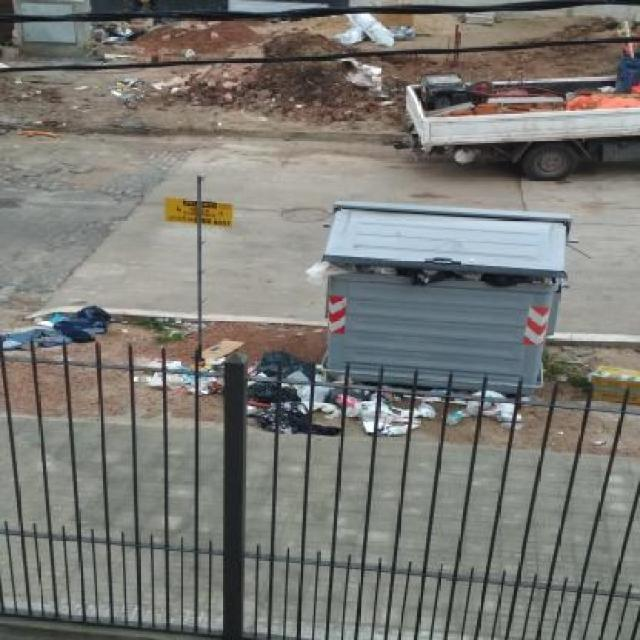garbage: (383, 368, 528, 450), (299, 254, 566, 298), (252, 357, 373, 436), (128, 351, 238, 401), (2, 313, 120, 359), (342, 10, 419, 49), (335, 60, 408, 94)
